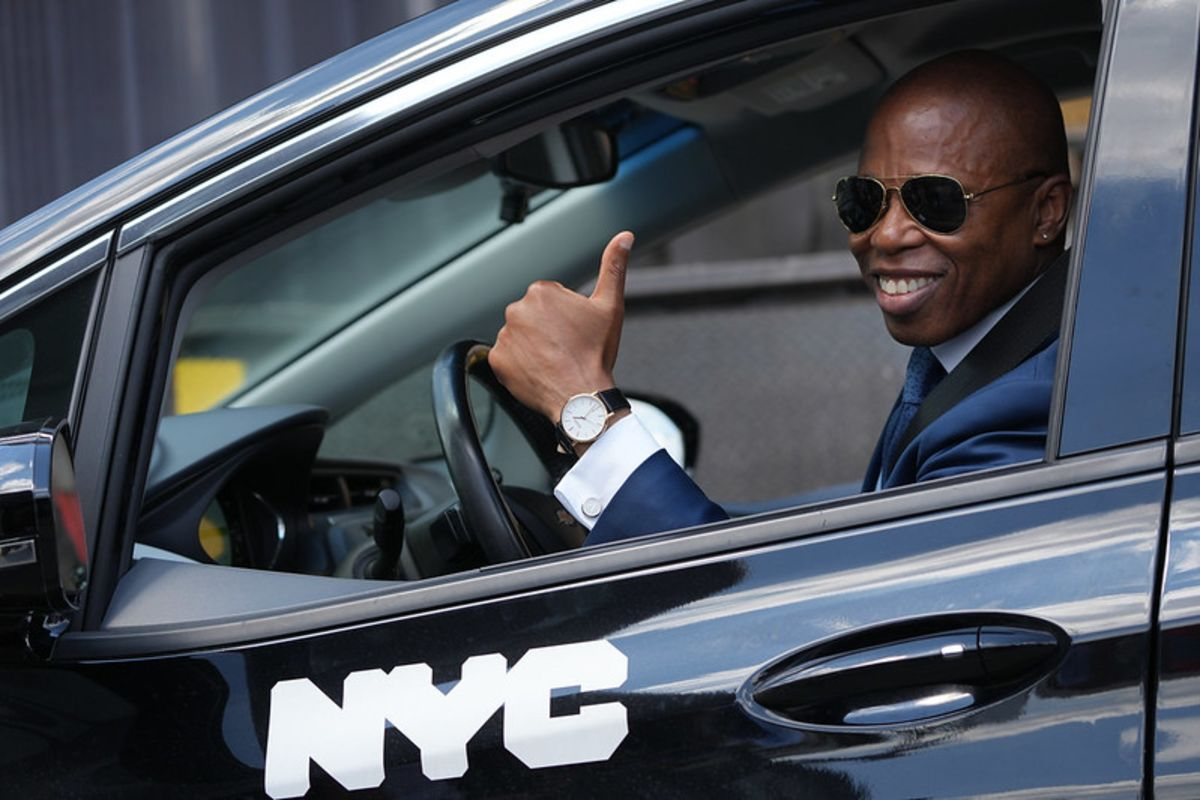thumbsUp: (464, 217, 661, 461)
